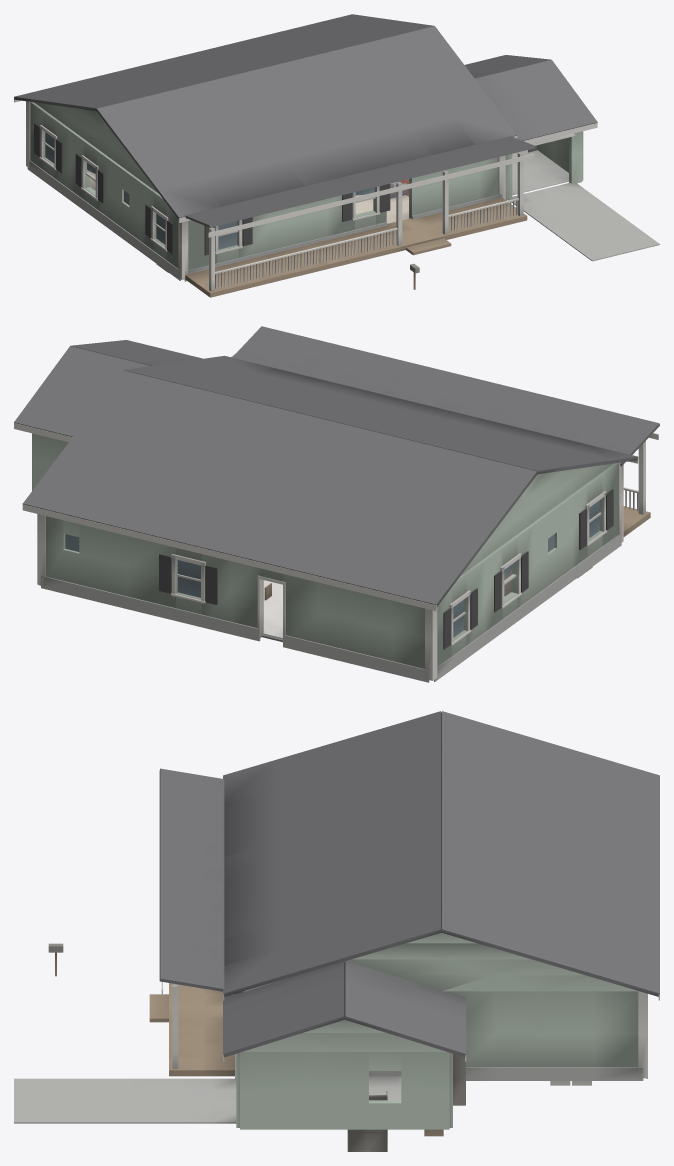
File: casa_us_9.glb
The picture shows the model from 3 angles, top to bottom: view 1: azimuth 30°, elevation 25°; view 2: azimuth 150°, elevation 25°; view 3: azimuth 270°, elevation 25°; orthographic projection. The views are drawn at different scales.
Parts seen in each view (by area): view 1: longe, ext, detalhe, dentro; view 2: longe, ext, detalhe, dentro; view 3: longe, ext, detalhe, despensa_garagem2, dentro, despensa_lavanderia2.
Part boxes in pixels (x1,y1,x2,y2): longe: [14, 14, 659, 297]; ext: [26, 101, 583, 281]; detalhe: [34, 123, 575, 289]; dentro: [89, 150, 568, 223]; longe: [14, 326, 659, 610]; ext: [32, 433, 623, 682]; detalhe: [65, 489, 613, 649]; dentro: [261, 571, 511, 642]; longe: [14, 711, 659, 1123]; ext: [235, 933, 647, 1129]; detalhe: [48, 943, 591, 1136]; despensa_garagem2: [347, 1091, 387, 1151]; dentro: [369, 1076, 401, 1100]; despensa_lavanderia2: [453, 1054, 465, 1105].
Size of what is drawn, in the model's own units: 19.8 by 6.2 by 20.02.
